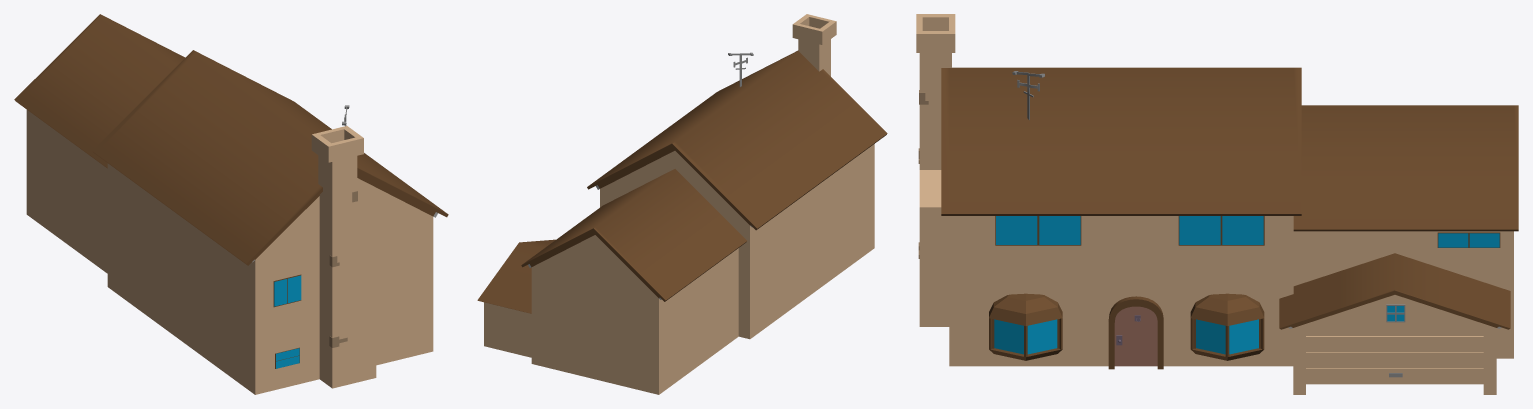
The model's file is House3.fbx.
3 renders of one model, left to right at view 1: azimuth 30°, elevation 25°; view 2: azimuth 150°, elevation 25°; view 3: azimuth 270°, elevation 25°, orthographic. The views are drawn at different scales.
Visible parts, largest first — view 1: House3; view 2: House3; view 3: House3.
Part boxes in pixels (x1,y1,x2,y2): House3: (14,14,448,394); House3: (477,14,887,394); House3: (916,14,1518,394).
Bounding box in the file's own units: 0.2043 × 0.1967 × 0.377.
